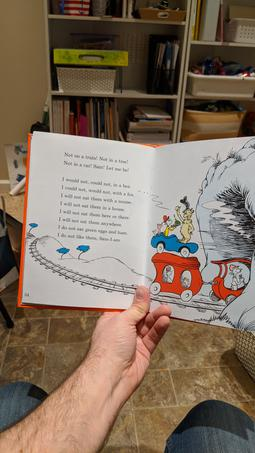text block: (51, 173, 139, 248), (57, 144, 136, 173)
